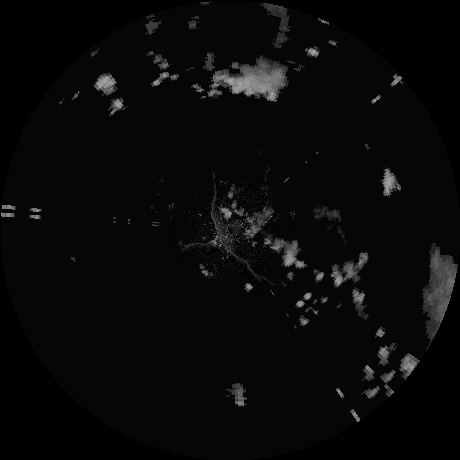frontgust: (209, 188, 255, 274)
